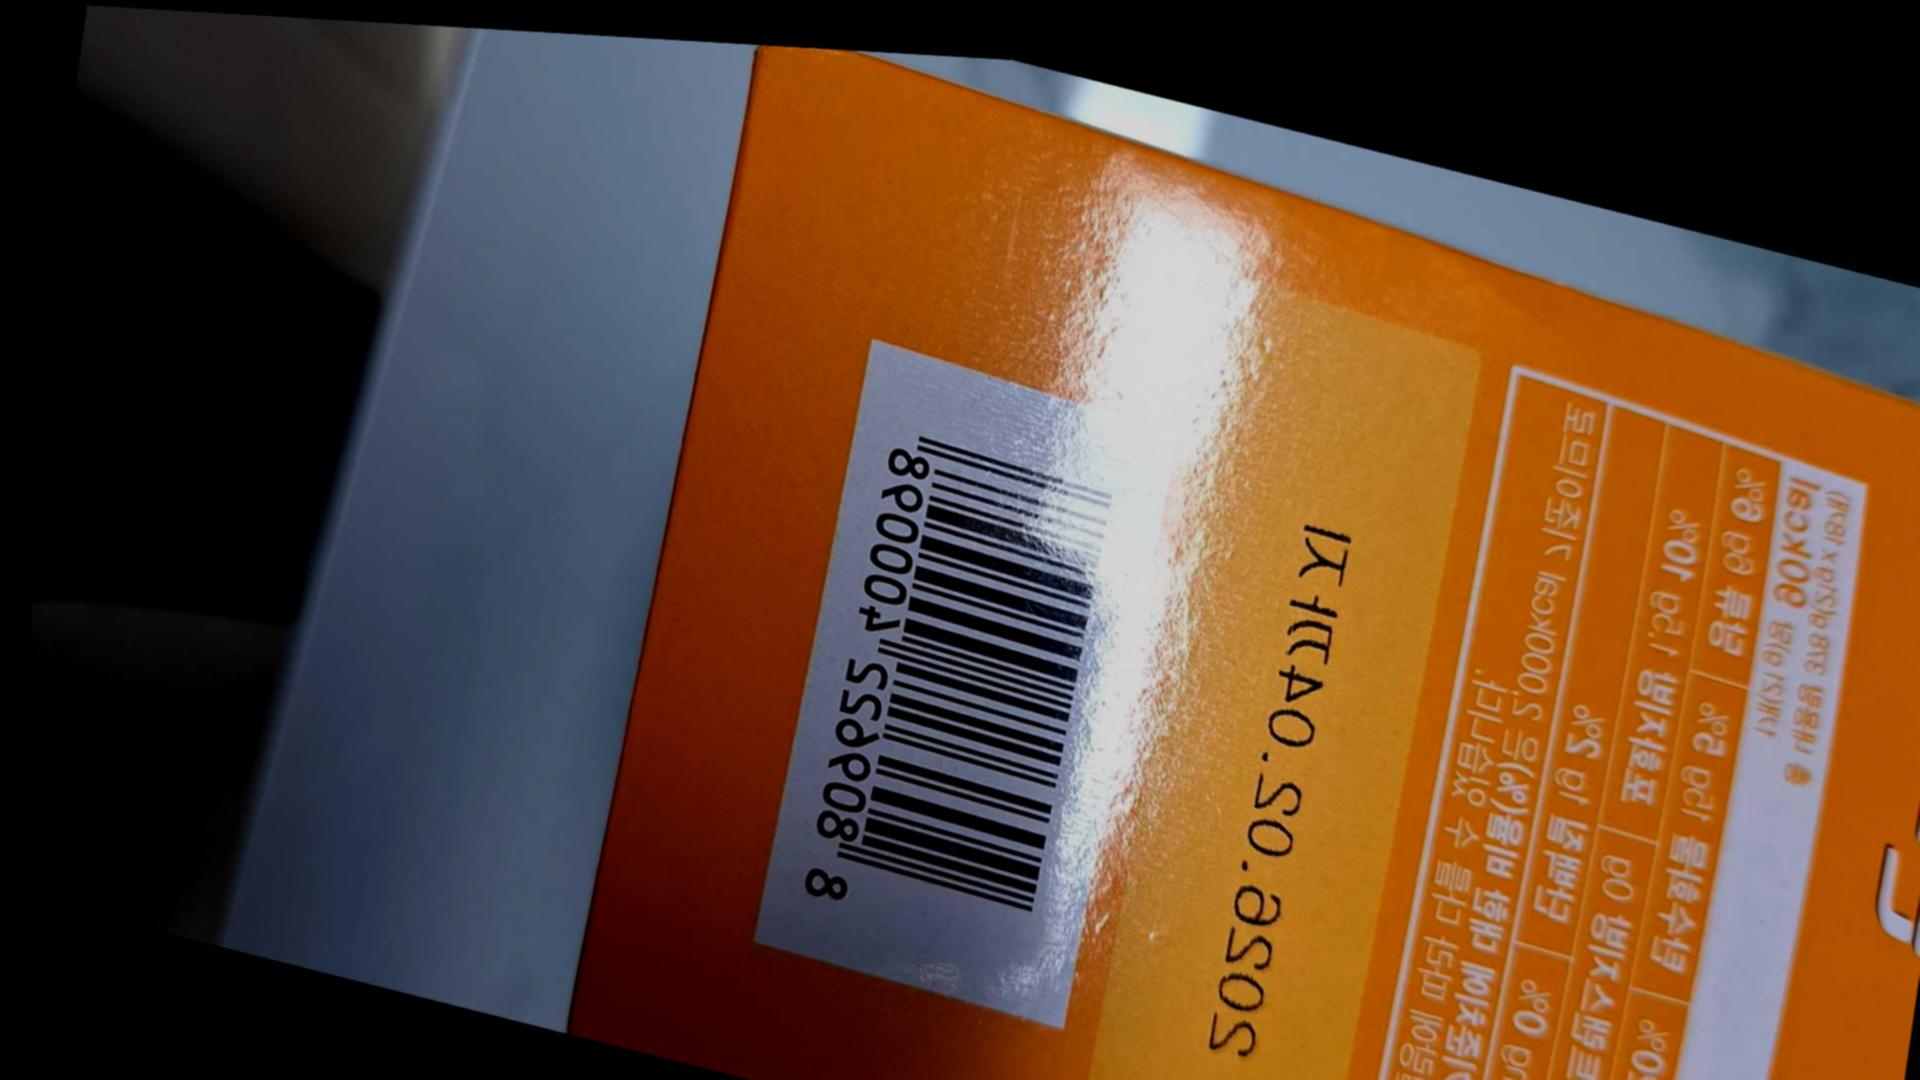cola-2000-2025-7-8: (762, 396, 1158, 977)
